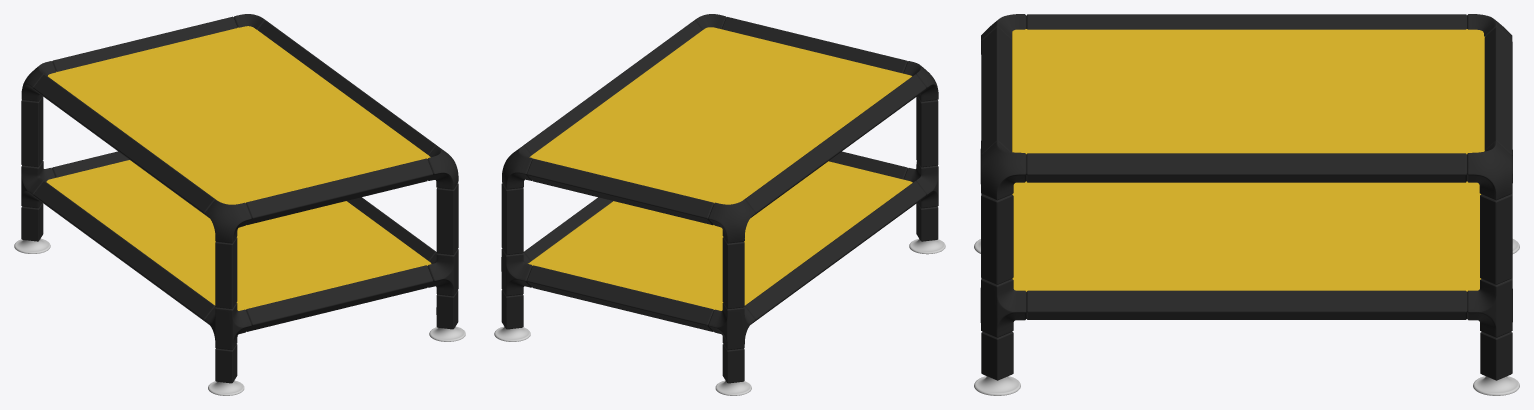
3 renders of one model, left to right at view 1: azimuth 30°, elevation 25°; view 2: azimuth 150°, elevation 25°; view 3: azimuth 270°, elevation 25°, orthographic. The views are drawn at different scales.
Visible parts, largest first — view 1: 229x374x79; view 2: 229x374x79; view 3: 229x374x79.
Part boxes in pixels (<box>): 229x374x79: <box>14,14,465,395</box>; 229x374x79: <box>494,14,945,395</box>; 229x374x79: <box>974,14,1519,395</box>.
Size of the model in its own units: 0.3189 by 0.2183 by 0.4632.
